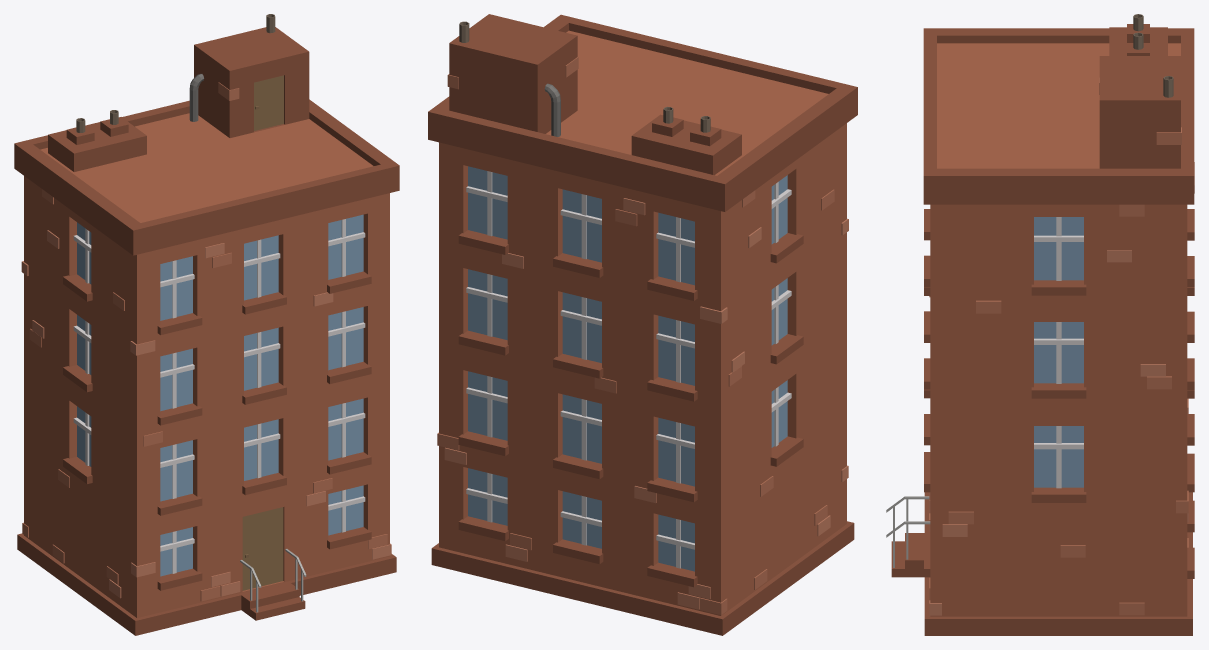
File: Multistory_01.glb
3 renders of one model, left to right at view 1: azimuth 30°, elevation 25°; view 2: azimuth 150°, elevation 25°; view 3: azimuth 270°, elevation 25°, orthographic. The views are drawn at different scales.
Parts seen in each view (by area): view 1: House_01; view 2: House_01; view 3: House_01.
Boxes of the visible parts, left/top/right/bottom form: House_01: left=14, top=14, right=399, bottom=635; House_01: left=428, top=14, right=857, bottom=635; House_01: left=886, top=14, right=1194, bottom=635.
Size of the model in its own units: 7.14 by 12.35 by 6.3.
1 material, 1 textured.
